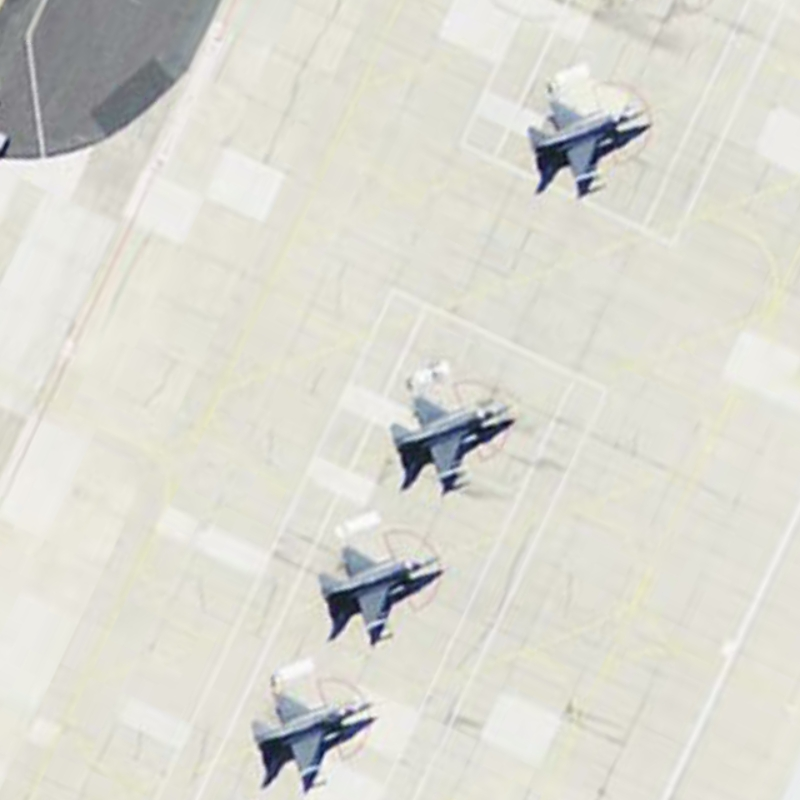A5: (242, 684, 378, 787), (386, 388, 516, 488), (311, 537, 443, 634), (526, 88, 650, 191)
